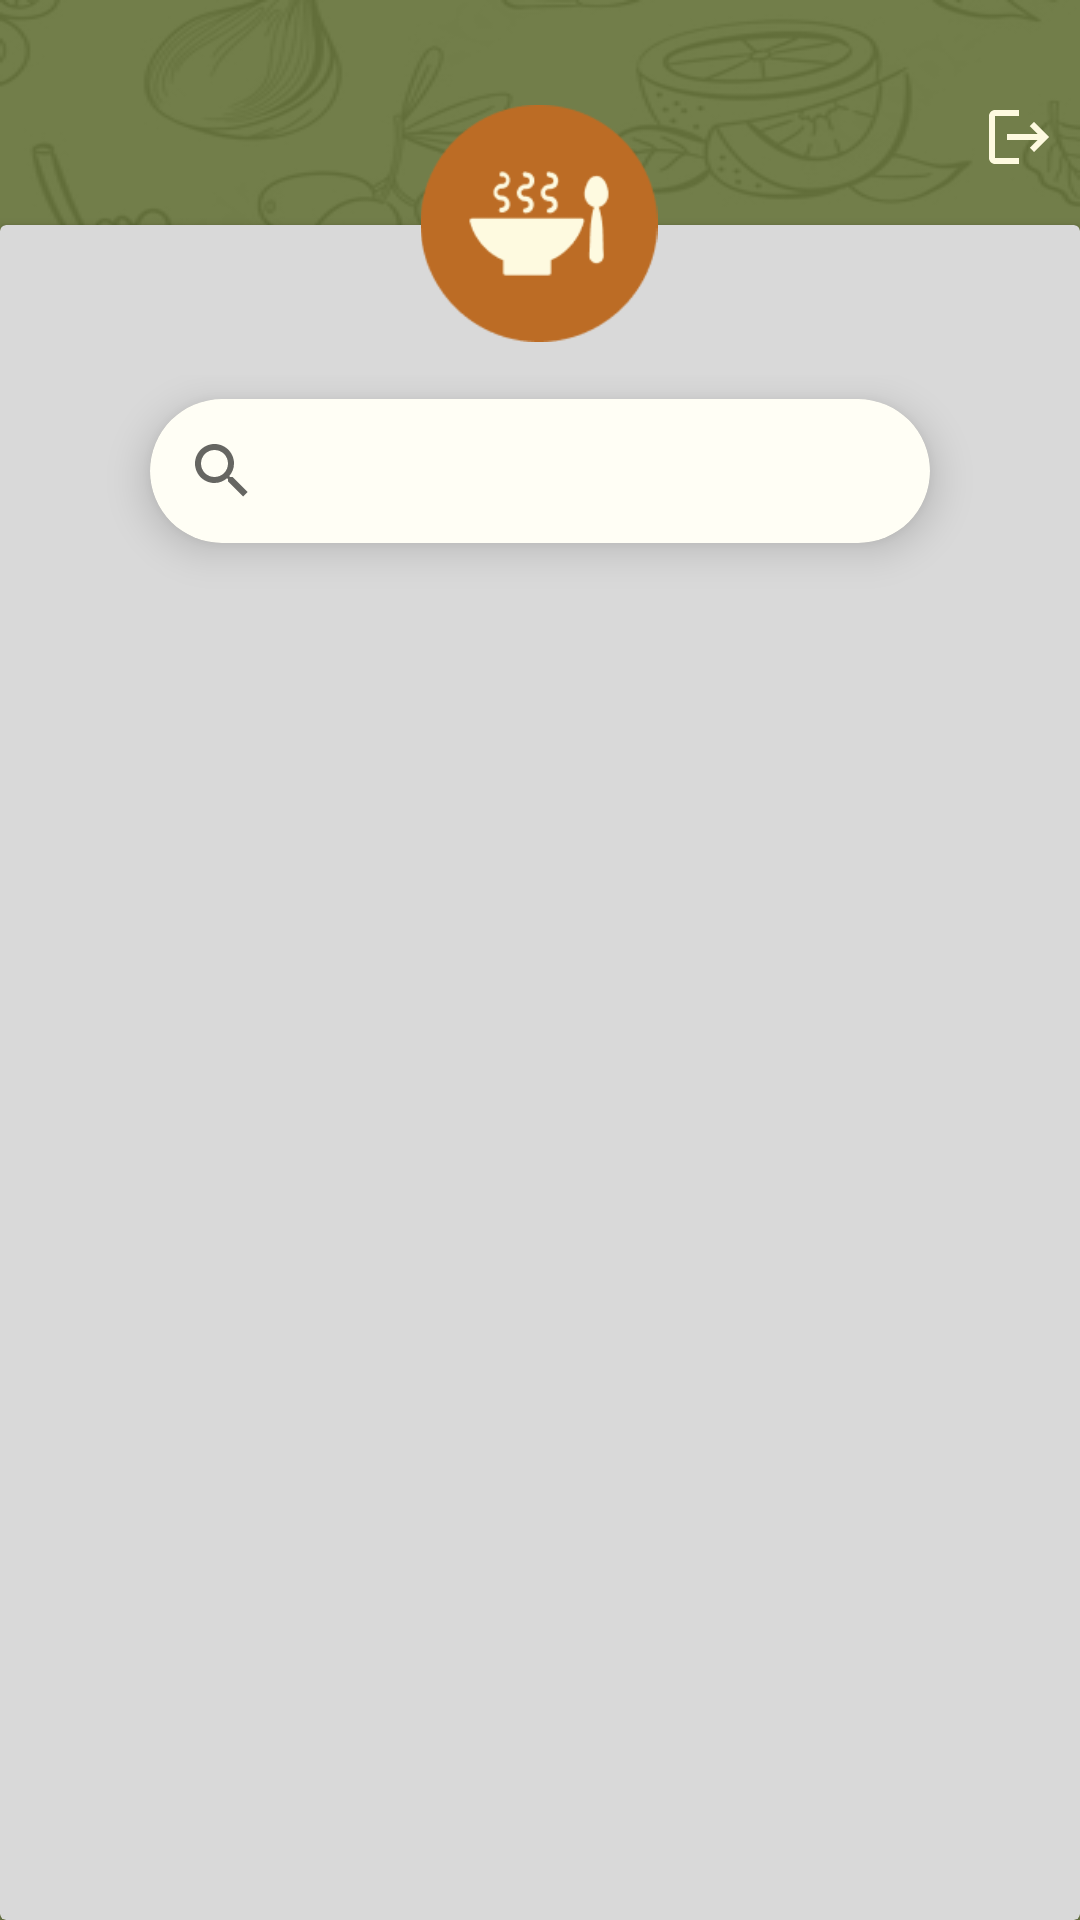

Screen size 1080w x 1920h. Icon name, then its center in pixels as point (x, y):
receitas: point (539, 223)
